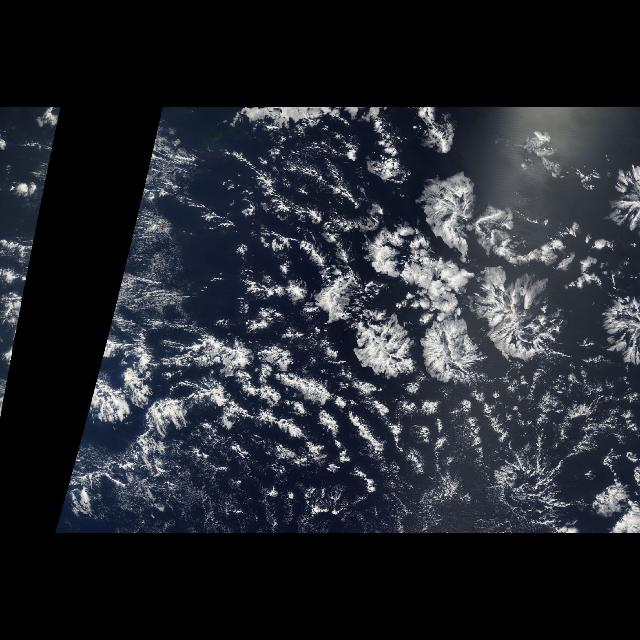Flower: (173, 107, 632, 527)
